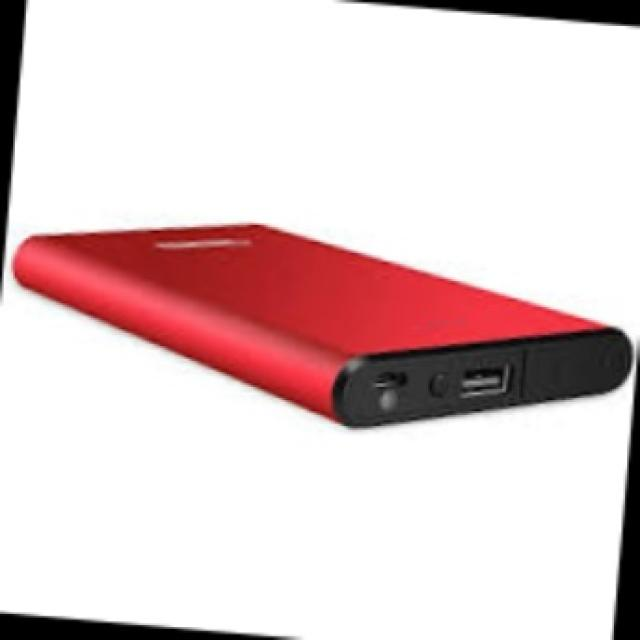elektronik: (26, 233, 634, 430)
